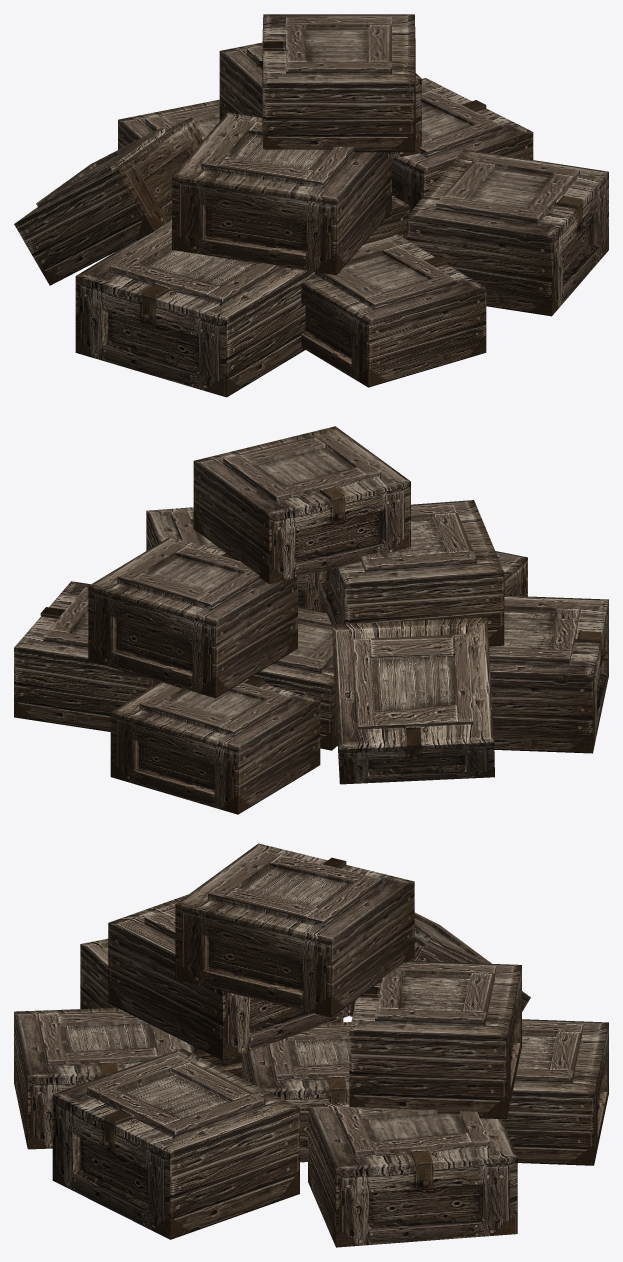
The model's file is SM_Env_Breakables_Boxes.FBX.
3 renders of one model, top to bottom at view 1: azimuth 30°, elevation 25°; view 2: azimuth 150°, elevation 25°; view 3: azimuth 270°, elevation 25°, orthographic. The views are drawn at different scales.
Parts seen in each view (by area): view 1: SM_Env_Breakables_Boxes; view 2: SM_Env_Breakables_Boxes; view 3: SM_Env_Breakables_Boxes.
Boxes of the visible parts, x1,y1,x2,y2 form: SM_Env_Breakables_Boxes: [14, 14, 608, 397]; SM_Env_Breakables_Boxes: [14, 426, 608, 814]; SM_Env_Breakables_Boxes: [14, 843, 608, 1247].
Size of what is drawn, in the model's own units: 216 by 206 by 97.52.
